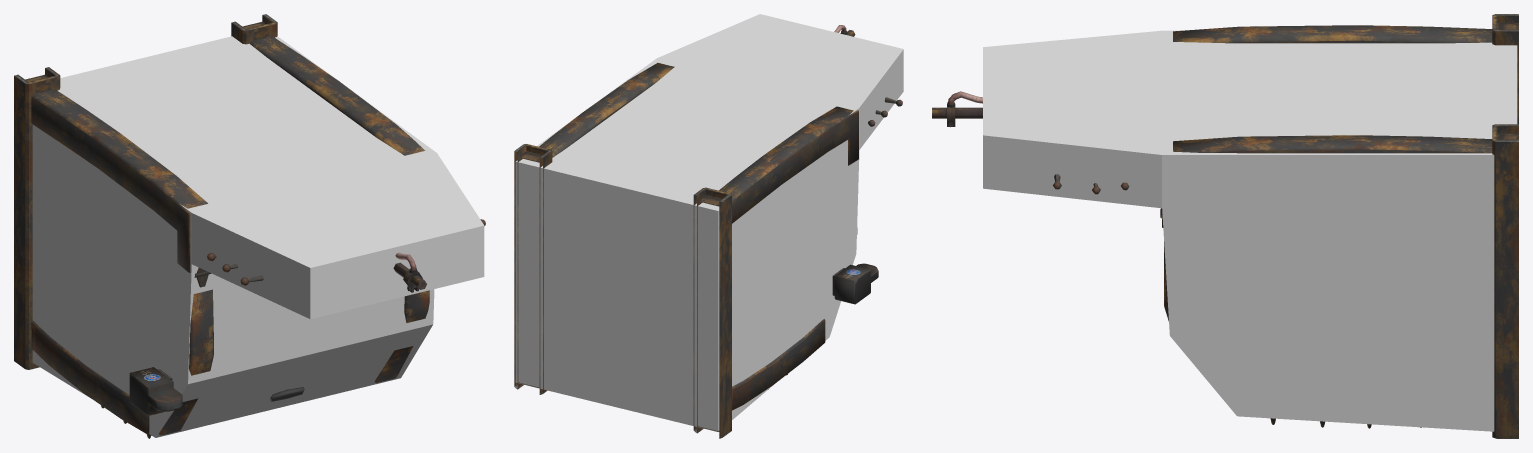
The model's file is cherry.glb.
The picture shows the model from 3 angles, left to right: view 1: azimuth 30°, elevation 25°; view 2: azimuth 150°, elevation 25°; view 3: azimuth 270°, elevation 25°; orthographic projection. The views are drawn at different scales.
Parts seen in each view (by area): view 1: c_mesh, g_body; view 2: c_mesh, g_body; view 3: c_mesh, g_body.
Boxes of the visible parts, x1,y1,x2,y2 form: c_mesh: [32, 36, 484, 437]; g_body: [14, 14, 485, 438]; c_mesh: [515, 14, 903, 431]; g_body: [514, 25, 902, 438]; c_mesh: [983, 30, 1517, 431]; g_body: [932, 14, 1518, 438].
Size of the model in its own units: 1.07 by 1.07 by 1.91.
3 materials, 3 textured.
